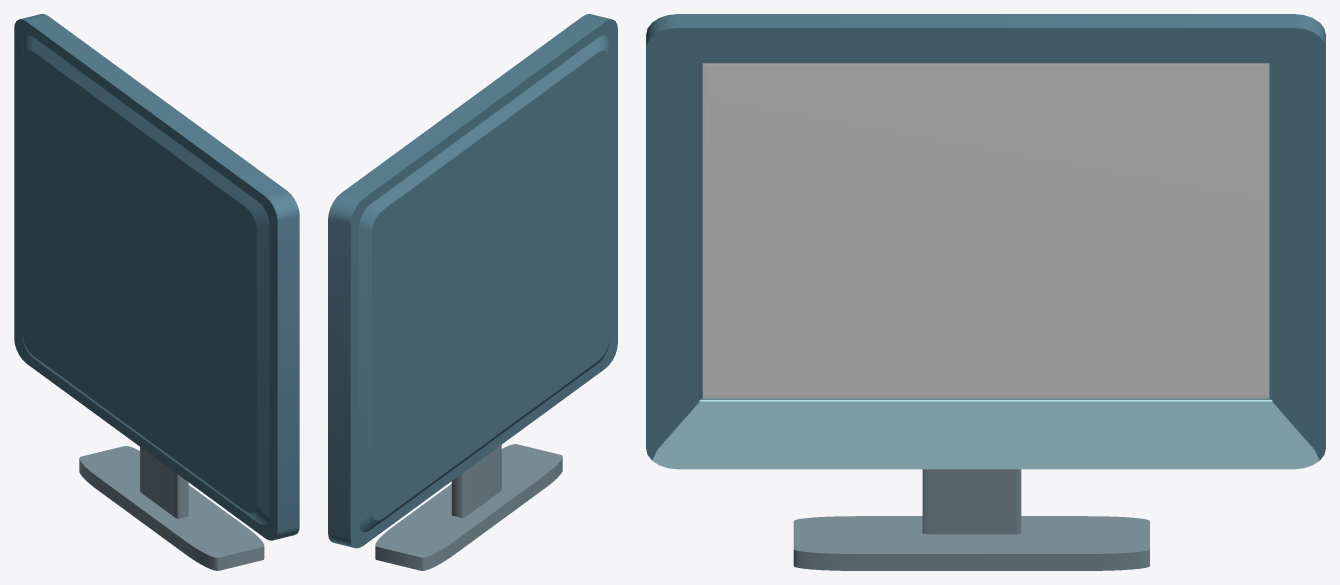
The model's file is monitor.fbx.
The picture shows the model from 3 angles, left to right: view 1: azimuth 30°, elevation 25°; view 2: azimuth 150°, elevation 25°; view 3: azimuth 270°, elevation 25°; orthographic projection. The views are drawn at different scales.
Visible parts, largest first — view 1: Cube.001, Cube.002; view 2: Cube.001, Cube.002; view 3: Cube.001, Cube.002.
Part boxes in pixels (<box>): Cube.001: <box>14,14,299,540</box>; Cube.002: <box>79,446,264,570</box>; Cube.001: <box>328,14,617,548</box>; Cube.002: <box>375,444,562,570</box>; Cube.001: <box>646,14,1325,469</box>; Cube.002: <box>793,469,1149,570</box>.
Bounding box in the file's own units: 52.43 × 339 × 398.
